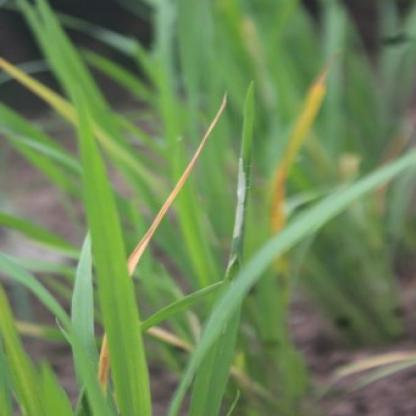Tungro: (258, 73, 336, 245)
